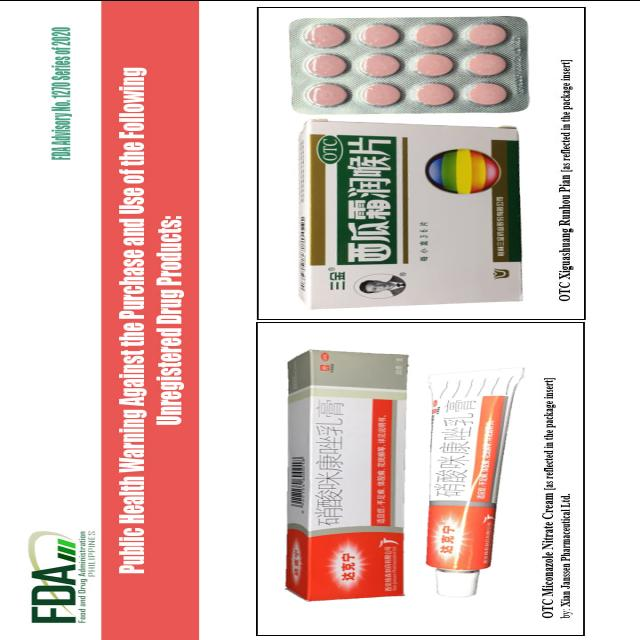counterfeit: (292, 123, 520, 311), (278, 347, 408, 607), (428, 357, 528, 601), (292, 13, 532, 114)
